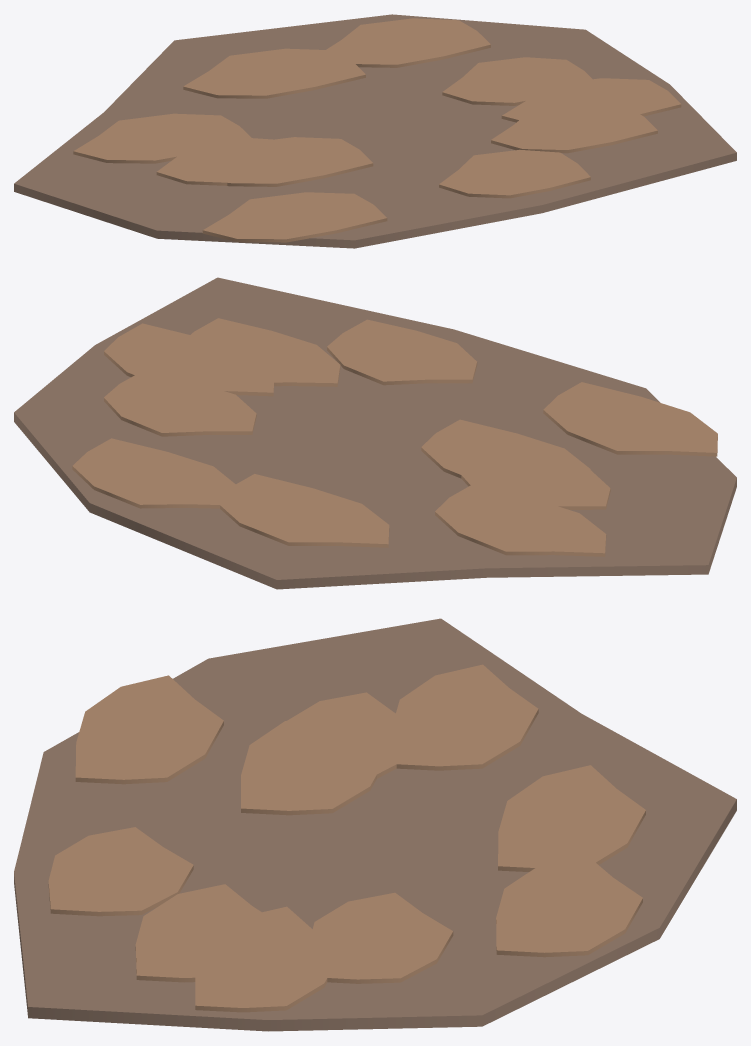
Rendered from patch-dirt-clean.glb.
3 views of the same model, one above another, from view 1: azimuth 30°, elevation 25°; view 2: azimuth 150°, elevation 25°; view 3: azimuth 270°, elevation 25° (orthographic). The views are drawn at different scales.
Parts seen in each view (by area): view 1: patch-dirt-kit-clean-soil, patch-dirt-kit-clean-wood; view 2: patch-dirt-kit-clean-soil, patch-dirt-kit-clean-wood; view 3: patch-dirt-kit-clean-soil, patch-dirt-kit-clean-wood.
Part boxes in pixels (x1,y1,x2,y2): patch-dirt-kit-clean-soil: [14, 14, 736, 248]; patch-dirt-kit-clean-wood: [73, 18, 681, 242]; patch-dirt-kit-clean-soil: [14, 277, 736, 589]; patch-dirt-kit-clean-wood: [72, 318, 717, 556]; patch-dirt-kit-clean-soil: [14, 618, 736, 1031]; patch-dirt-kit-clean-wood: [48, 664, 645, 1012].
Bounding box in the file's own units: 2.66 × 0.0485 × 2.02.
